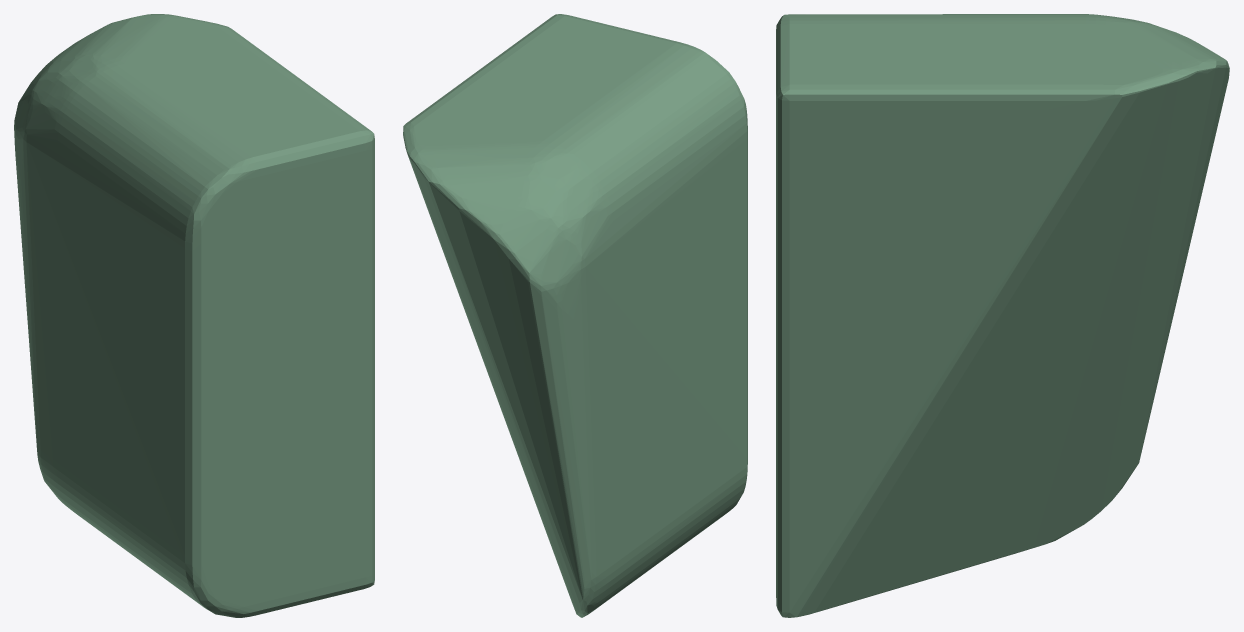
File: right_lf_metacarpal_part_0.obj
3 views of the same model, side by side, from view 1: azimuth 30°, elevation 25°; view 2: azimuth 150°, elevation 25°; view 3: azimuth 270°, elevation 25° (orthographic). The views are drawn at different scales.
Size of the model in its own units: 9.69 by 22.4 by 17.38.
